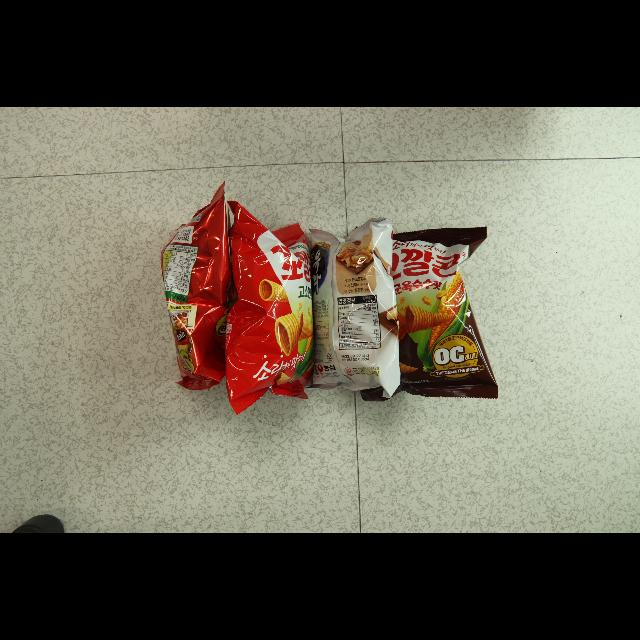bongji: (351, 228, 498, 403), (225, 200, 314, 414), (310, 217, 401, 398), (161, 181, 237, 390)
